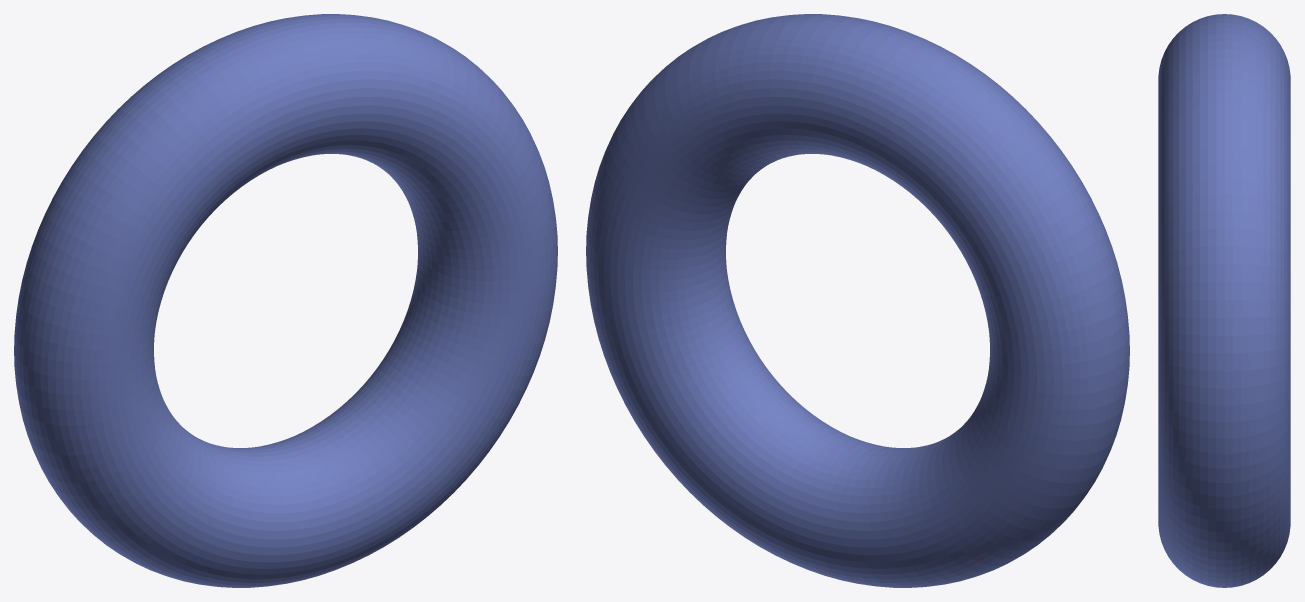
Rendered from step_0.glb.
3 views of the same model, side by side, from view 1: azimuth 30°, elevation 25°; view 2: azimuth 150°, elevation 25°; view 3: azimuth 270°, elevation 25° (orthographic). The views are drawn at different scales.
Visible parts, largest first — view 1: world; view 2: world; view 3: world.
Part boxes in pixels (left/top/right/bottom): world: left=14, top=14, right=557, bottom=587; world: left=586, top=14, right=1129, bottom=587; world: left=1158, top=14, right=1290, bottom=587.
Bounding box in the file's own units: 26 × 26 × 5.99.
